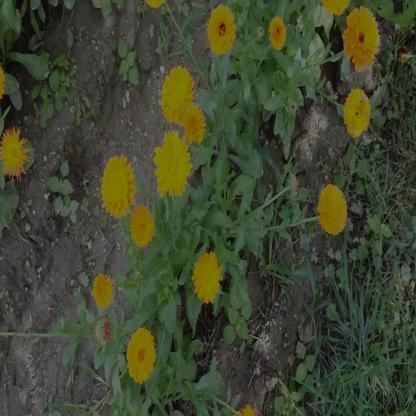marigold: (156, 129, 191, 197), (342, 10, 379, 74), (101, 156, 132, 214), (160, 67, 193, 121), (127, 328, 156, 382), (320, 184, 349, 234), (192, 254, 221, 303), (1, 125, 28, 175), (345, 86, 370, 135), (209, 7, 235, 52), (131, 207, 153, 250), (180, 104, 204, 142), (269, 17, 288, 51), (92, 276, 112, 308)
